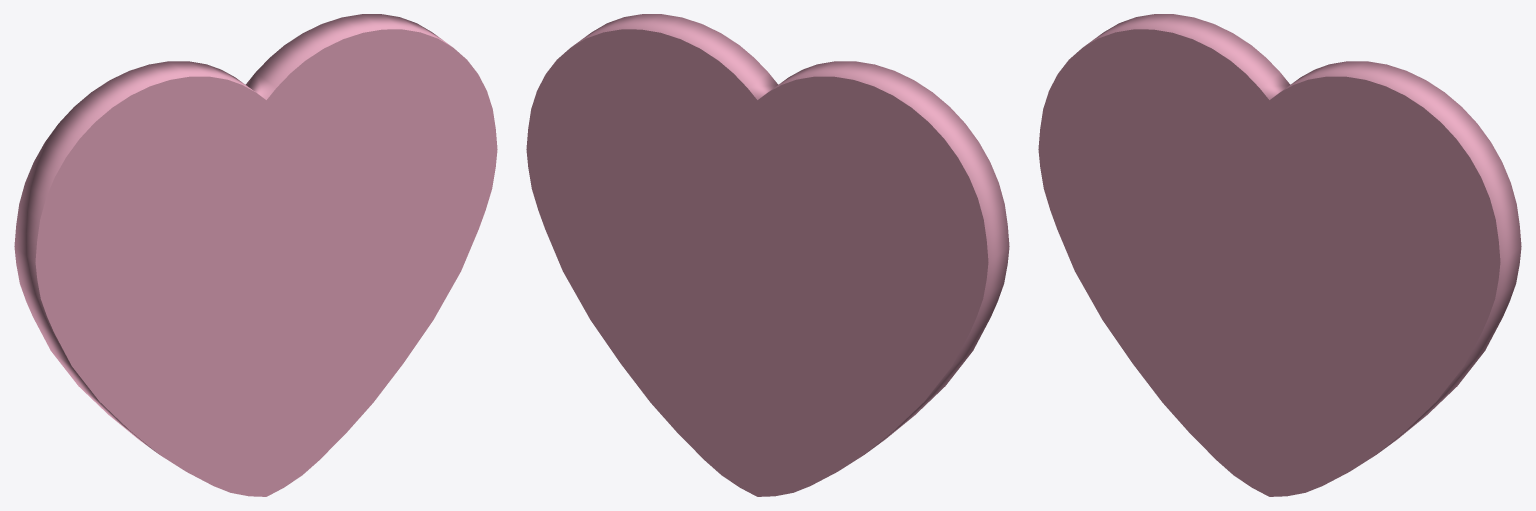
Rendered from LuckyC_Heart.fbx.
3 renders of one model, left to right at view 1: azimuth 30°, elevation 25°; view 2: azimuth 150°, elevation 25°; view 3: azimuth 330°, elevation 25°, orthographic.
Parts seen in each view (by area): view 1: LuckyC_Heart; view 2: LuckyC_Heart; view 3: LuckyC_Heart.
Part boxes in pixels (x1,y1,x2,y2): LuckyC_Heart: [14, 14, 497, 496]; LuckyC_Heart: [526, 14, 1009, 496]; LuckyC_Heart: [1038, 14, 1521, 496].
Size of the model in its own units: 2.01 by 1.83 by 0.1585.
